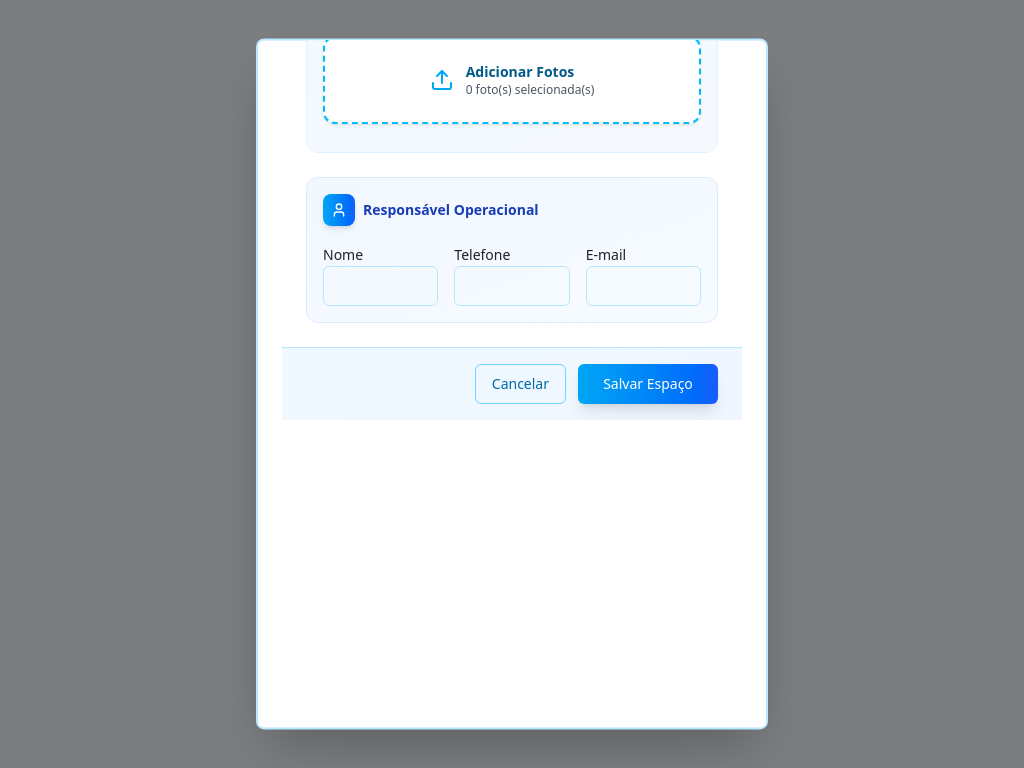
Scenario: SpaceFormDialog › deve validar campos obrigatórios
The width and height of the screenshot is (1024, 768).
(page scrolled)
Click the button "Salvar Espaço" at (648, 384), box x1=578 y1=364 x2=718 y2=404
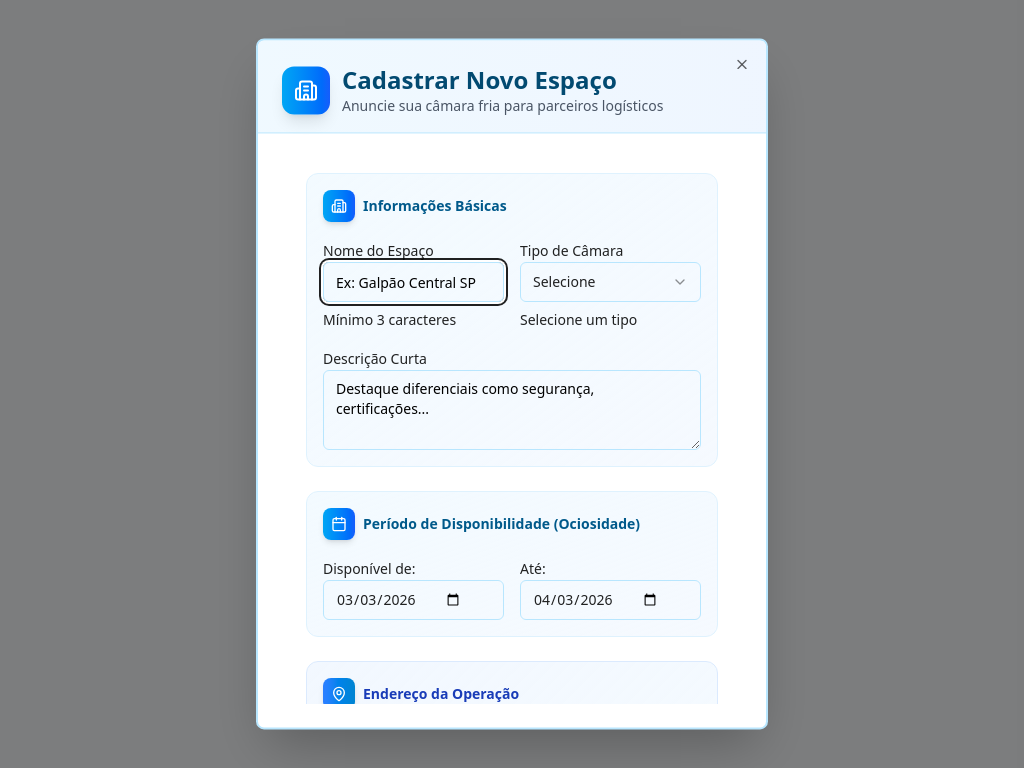
Now the text "Mínimo 3 caracteres" is shown, box x1=323 y1=310 x2=456 y2=329
Now the text "Selecione um tipo" is shown, box x1=520 y1=310 x2=637 y2=329
